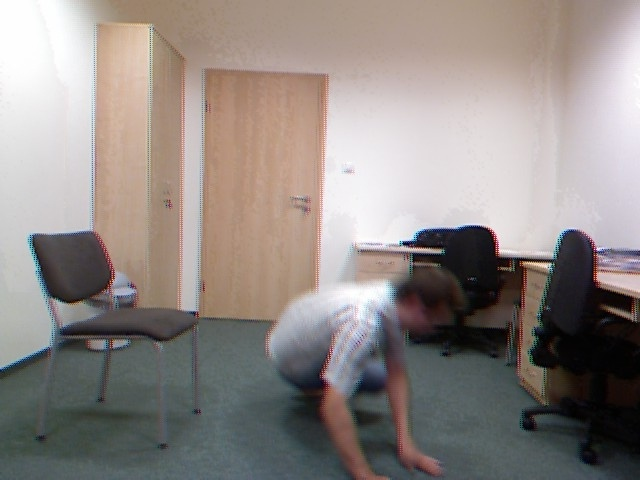fall: (253, 243, 481, 480)
